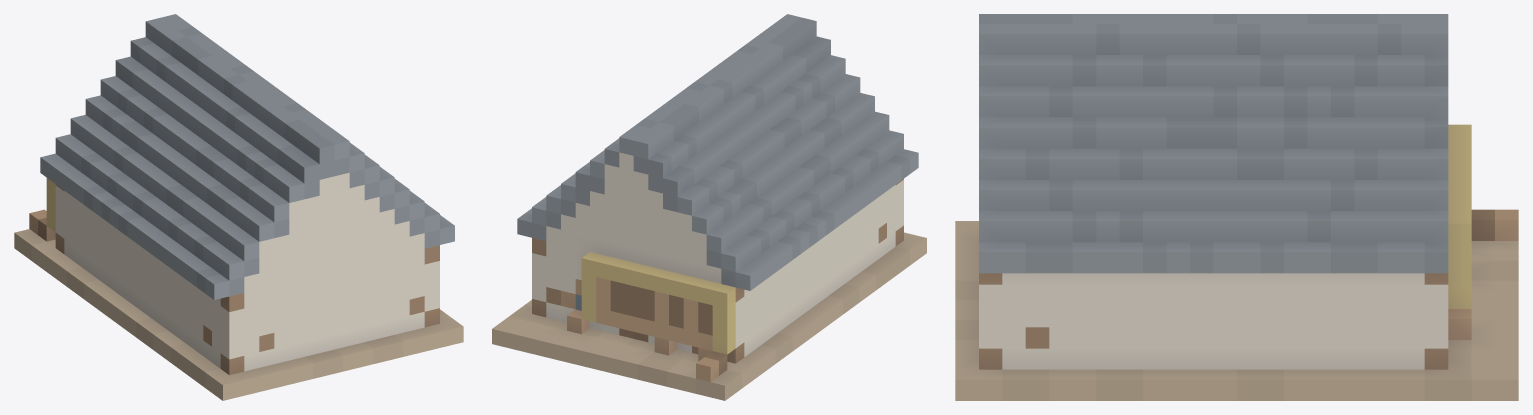
The model's file is clay_pit.lite.glb.
3 views of the same model, side by side, from view 1: azimuth 30°, elevation 25°; view 2: azimuth 150°, elevation 25°; view 3: azimuth 270°, elevation 25° (orthographic). The views are drawn at different scales.
Visible parts, largest first — view 1: clay_pit; view 2: clay_pit; view 3: clay_pit.
Boxes of the visible parts, <box> form: clay_pit: <box>14,14,463,400</box>; clay_pit: <box>492,14,926,400</box>; clay_pit: <box>955,14,1518,400</box>.
Size of the model in its own units: 4 by 3.5 by 6.
